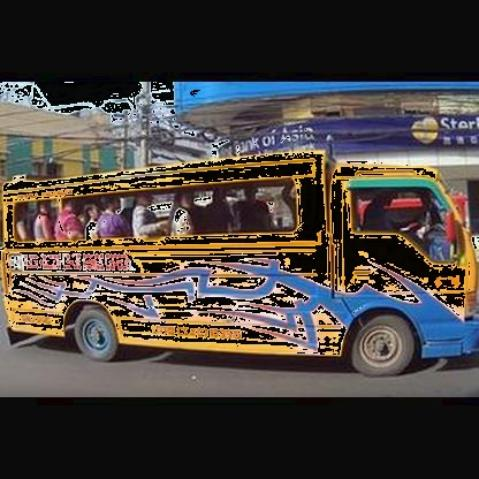jeepney: (9, 136, 479, 378)
